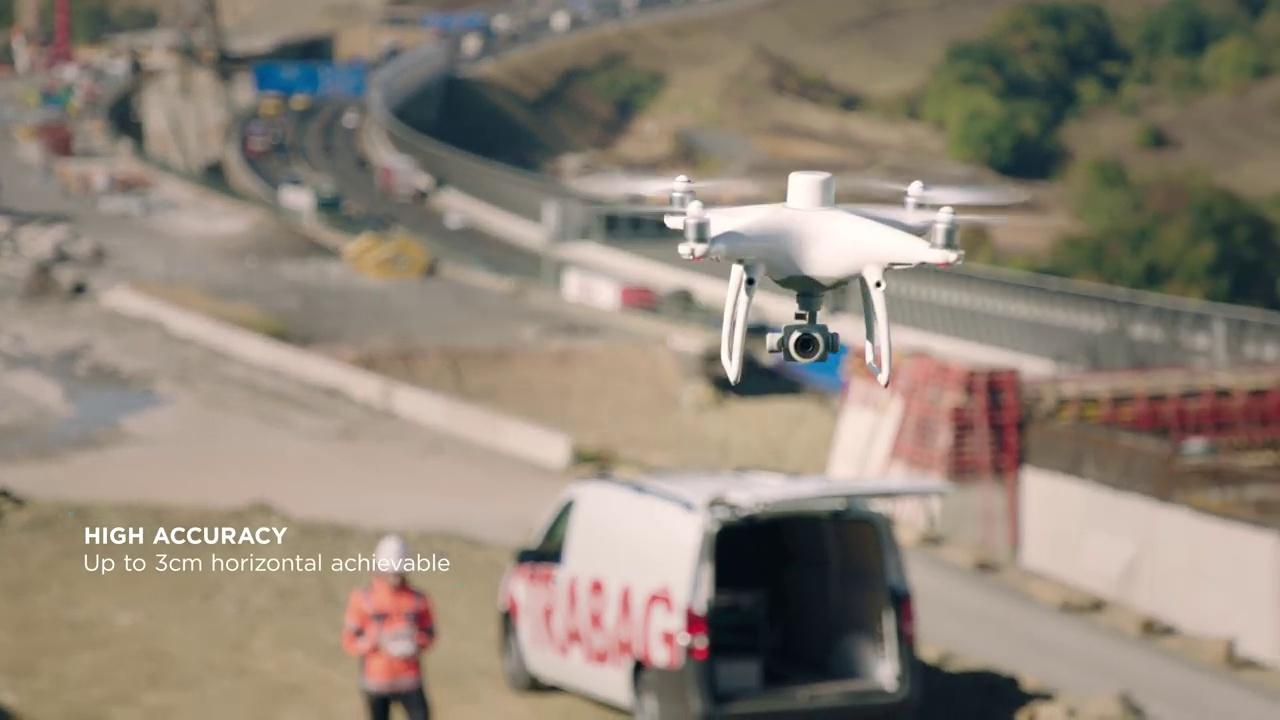drone: (581, 166, 1034, 388)
